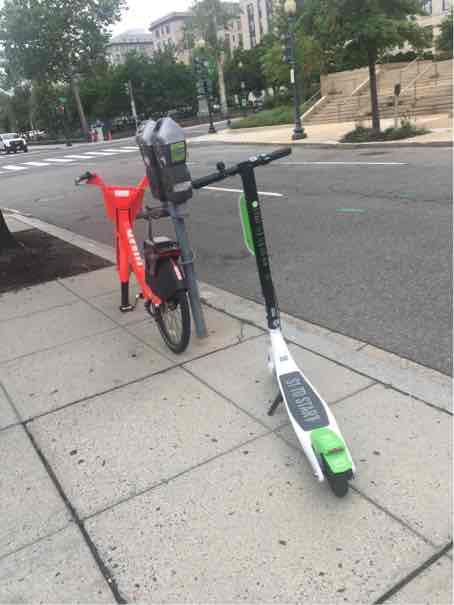scooter: (186, 146, 379, 483)
